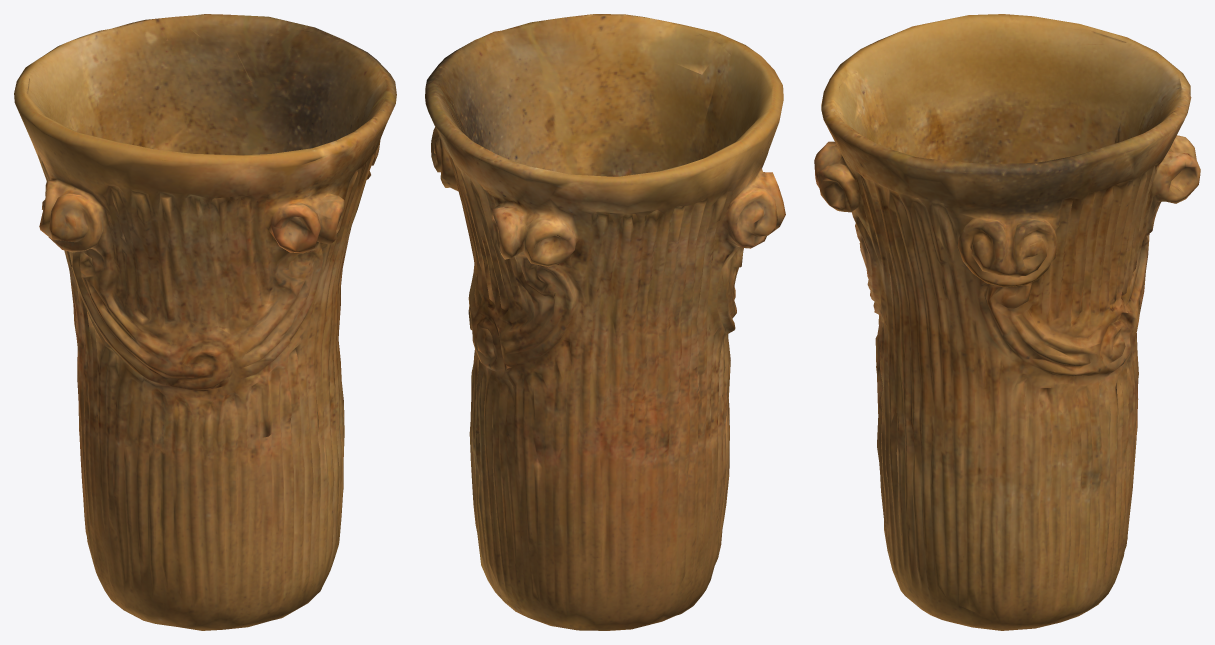
3 renders of one model, left to right at view 1: azimuth 30°, elevation 25°; view 2: azimuth 150°, elevation 25°; view 3: azimuth 270°, elevation 25°, orthographic.
Visible parts, largest first — view 1: NM0106.low; view 2: NM0106.low; view 3: NM0106.low.
Part boxes in pixels (bbox=[...]): NM0106.low: bbox=[14, 14, 396, 630]; NM0106.low: bbox=[425, 14, 785, 630]; NM0106.low: bbox=[814, 14, 1200, 630].
Bounding box in the file's own units: 152 × 217 × 152.
1 material, 1 textured.
